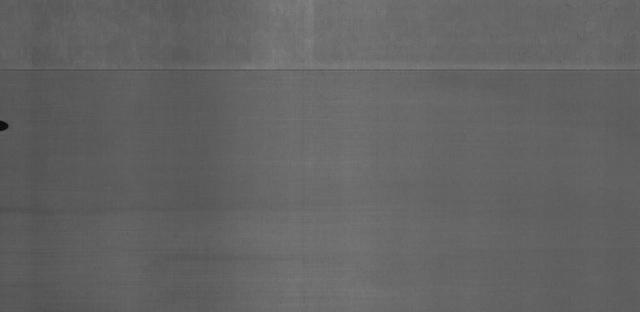punching_hole: (0, 116, 11, 132)
welding_line: (1, 58, 640, 81)
